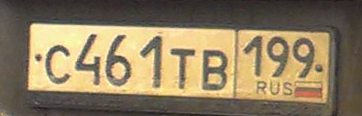character: (104, 31, 134, 86), (75, 33, 103, 86), (140, 35, 165, 89), (43, 44, 73, 85), (169, 47, 197, 90), (201, 48, 228, 92), (290, 36, 316, 79), (267, 35, 290, 77), (243, 36, 264, 78)
